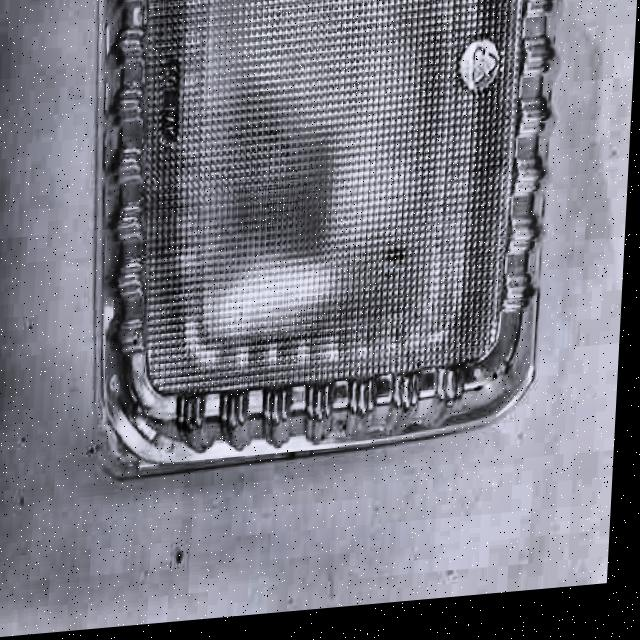plastic: (69, 0, 566, 482)
